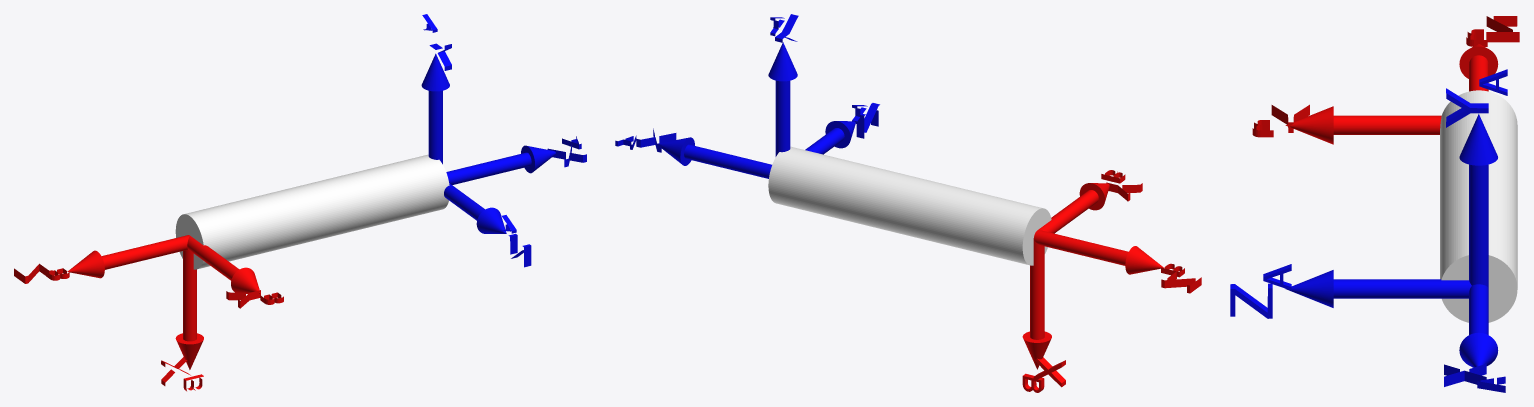
3 views of the same model, side by side, from view 1: azimuth 30°, elevation 25°; view 2: azimuth 150°, elevation 25°; view 3: azimuth 270°, elevation 25° (orthographic). The views are drawn at different scales.
Visible parts, largest first — view 1: Renderer Node; view 2: Renderer Node; view 3: Renderer Node.
Boxes of the visible parts, x1=… form: Renderer Node: x1=14, y1=14, x2=586, y2=391; Renderer Node: x1=615, y1=14, x2=1201, y2=392; Renderer Node: x1=1230, y1=16, x2=1519, y2=392.
Size of the model in its own units: 4.56 by 2.41 by 1.5.
